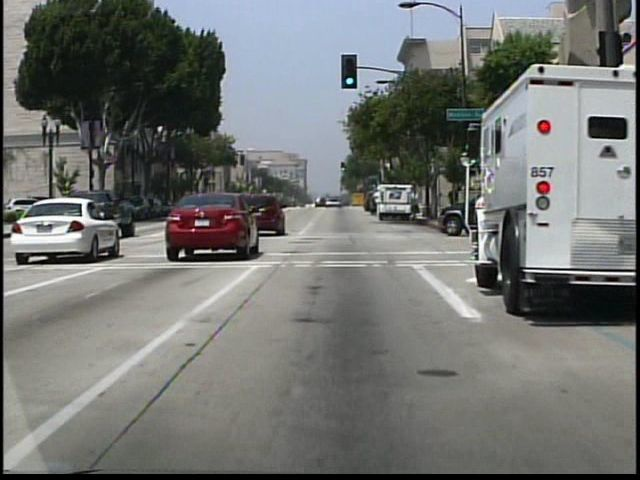person: (411, 189, 421, 223)
